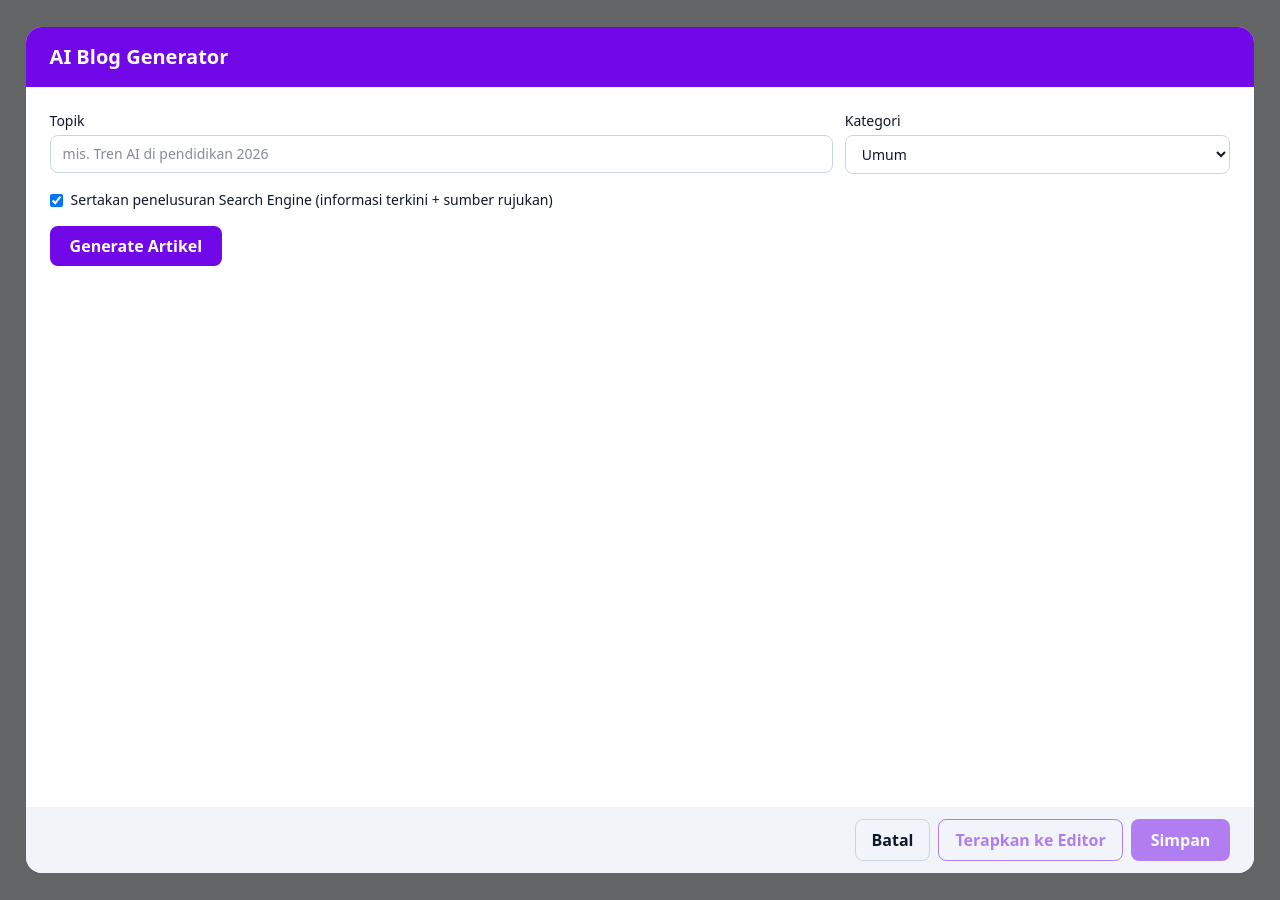
Test: AiPostGeneratorModal › error generate, error simpan, status memuat, dan Batal
The width and height of the screenshot is (1280, 900).
Later steps or results of the test are not shown.
Type "x" into the field labelled "Topik" at (441, 154), box [50,135,833,173]
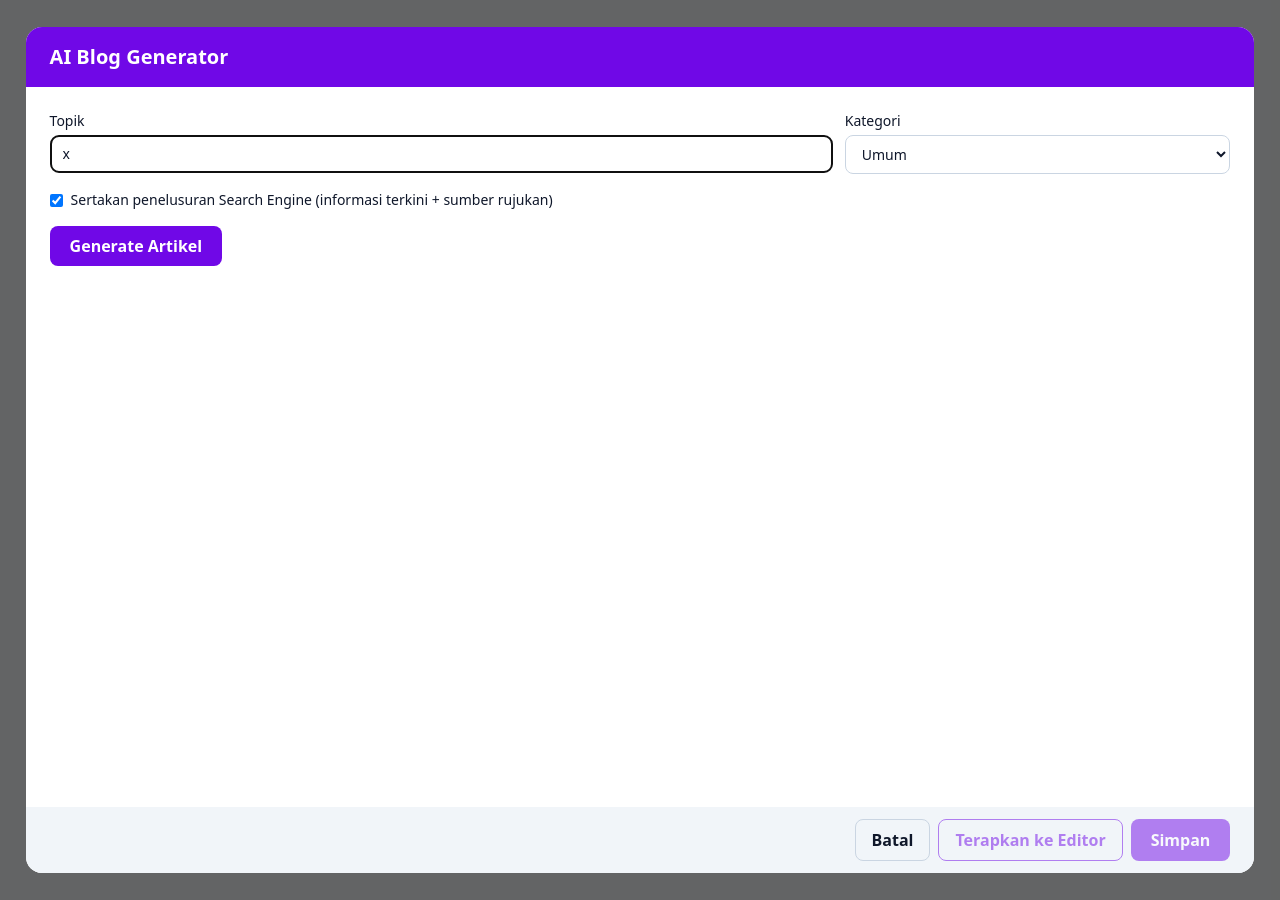
Click the button "Generate Artikel" at (136, 246), box [50,226,222,266]
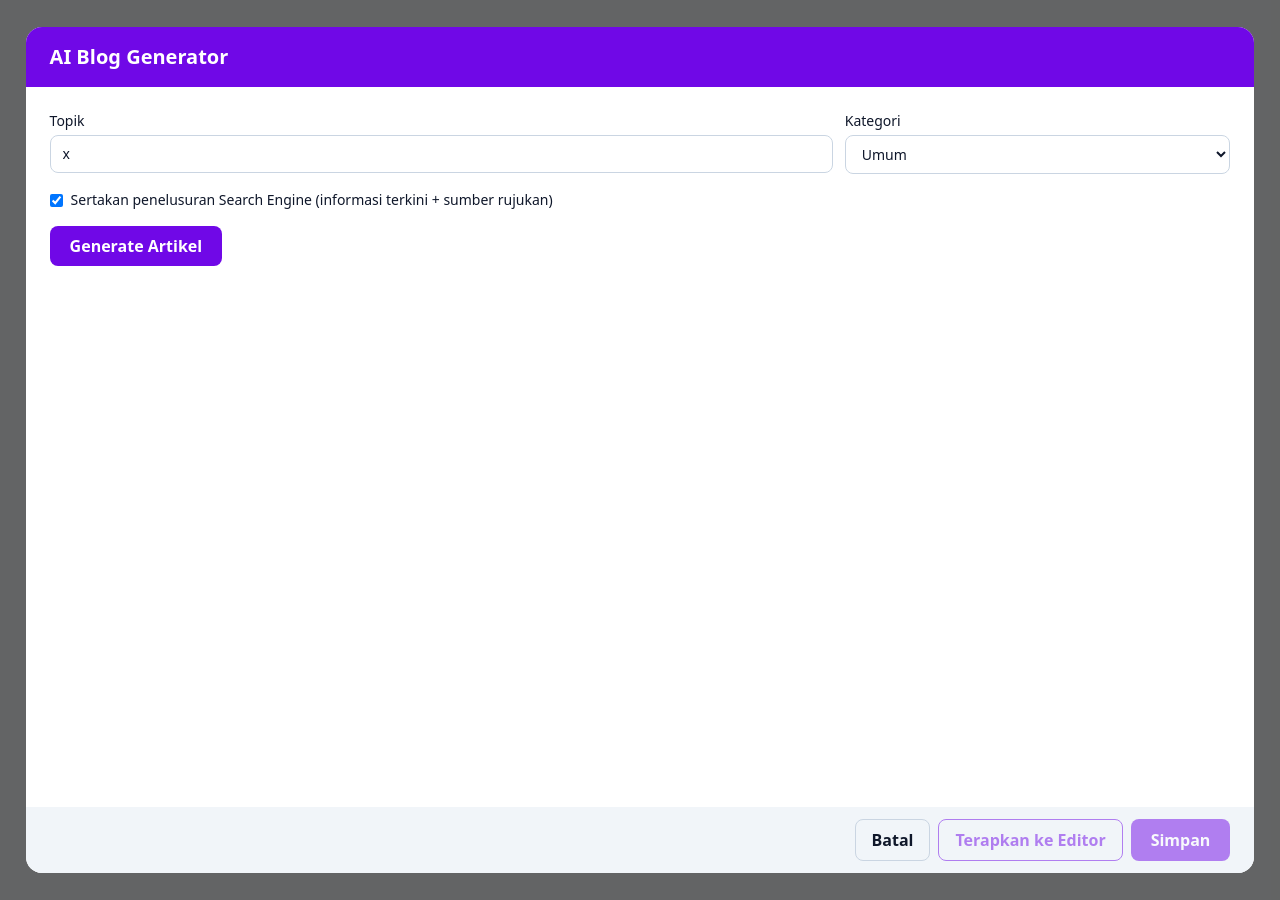
Click the button "Generate Artikel" at (136, 246), box [50,226,222,266]
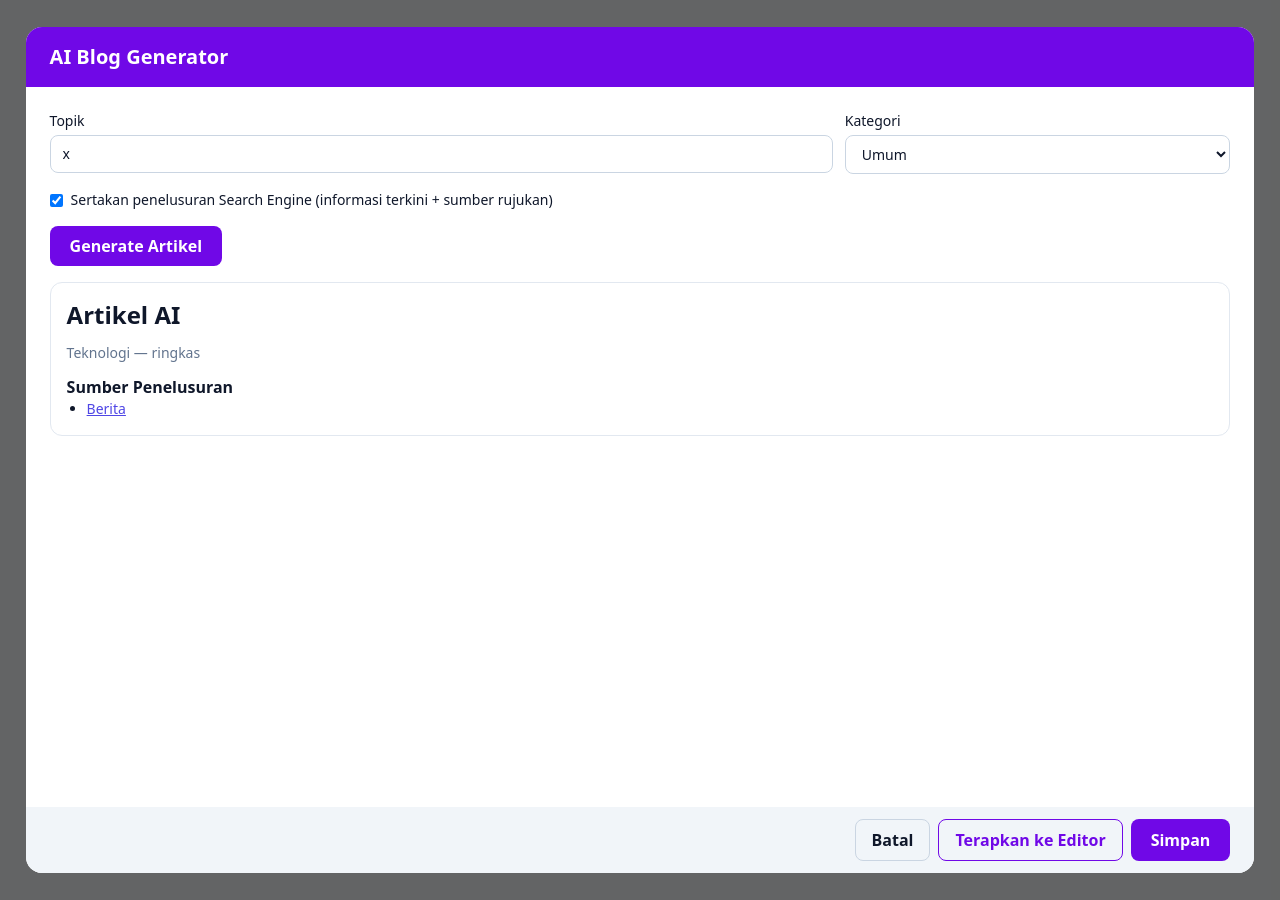
Expected: the heading "Artikel AI" is shown, [67,298,180,331]
